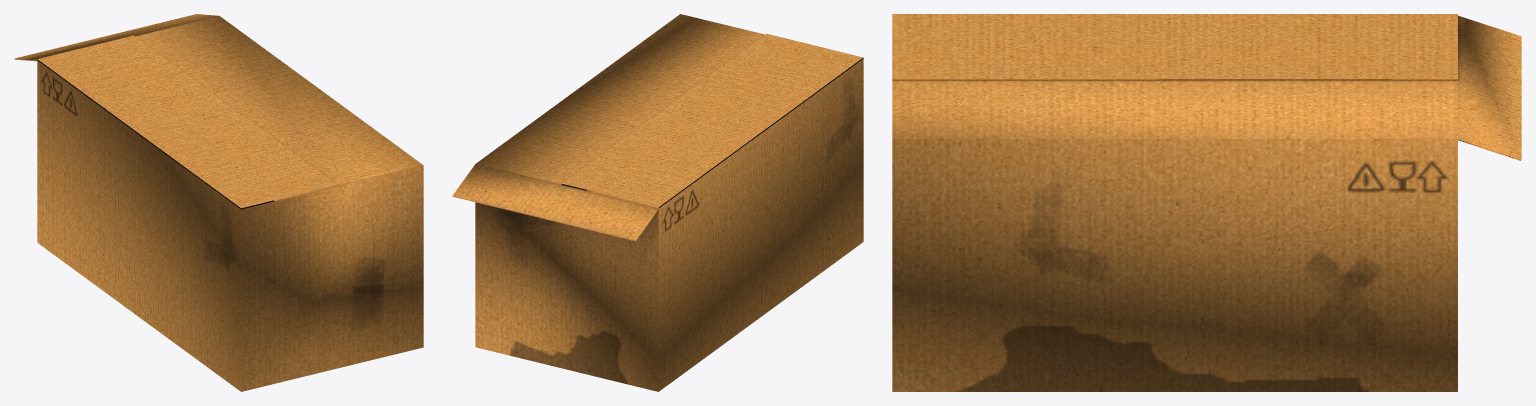
Rendered from karton_01.fbx.
3 renders of one model, left to right at view 1: azimuth 30°, elevation 25°; view 2: azimuth 150°, elevation 25°; view 3: azimuth 270°, elevation 25°, orthographic. The views are drawn at different scales.
Visible parts, largest first — view 1: Mesh; view 2: Mesh; view 3: Mesh.
Boxes of the visible parts, x1,y1,x2,y2 form: Mesh: (14, 14, 423, 391); Mesh: (452, 14, 863, 391); Mesh: (892, 14, 1521, 391).
Size of the model in its own units: 48.82 by 47.03 by 105.
